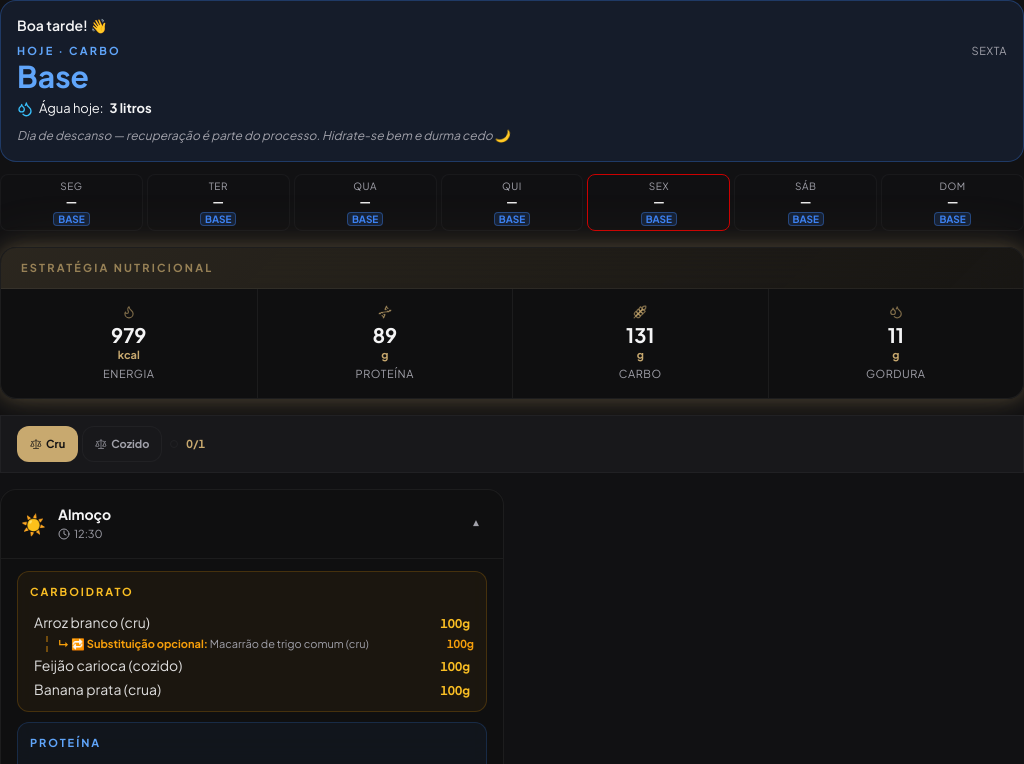
Test case: StructuredMealsViewer — Cru × Cozido › modo Cozido: a SUBSTITUIÇÃO usa o próprio fator (macarrão 100 g × 2,5 = 250 g, não × 2,7 do arroz)
Click the button "Cozido". click: (122, 444)
box: top-left (82, 426), bottom-right (162, 462)
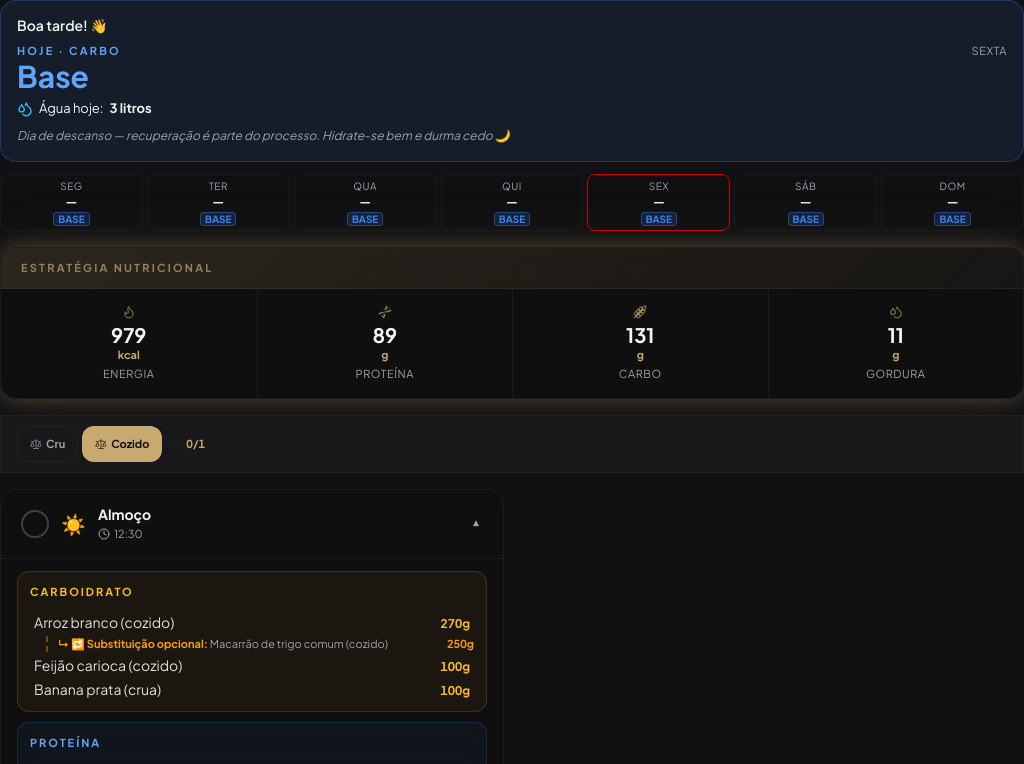
expect the text "↳ 🔁 Substituição opcional: Macarrão de trigo comum (cozido) 250g" is shown: met, box top-left (46, 636), bottom-right (474, 652)
